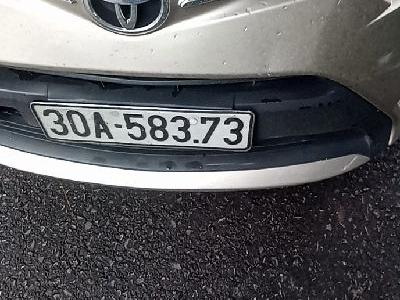lisence: (29, 100, 257, 157)
